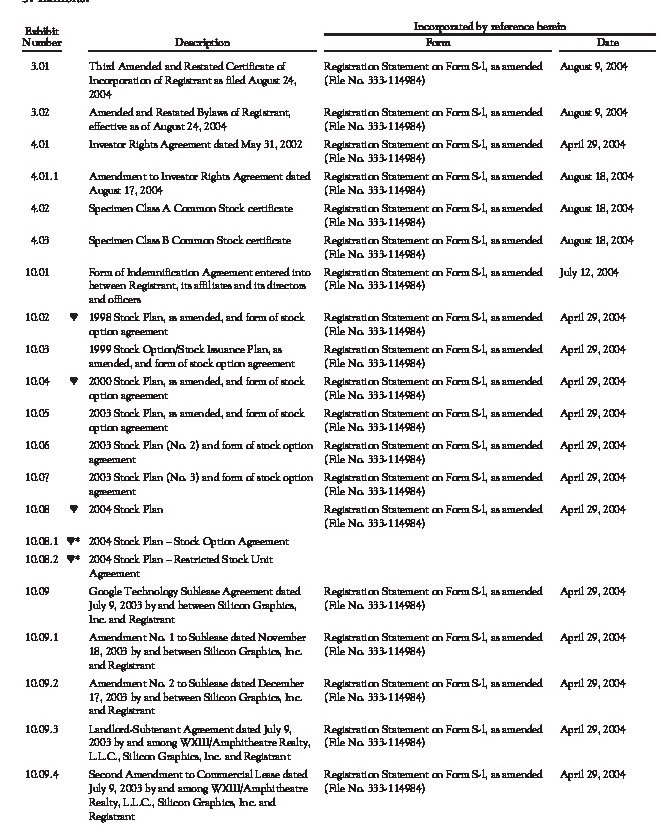table: (0, 0, 670, 835)
